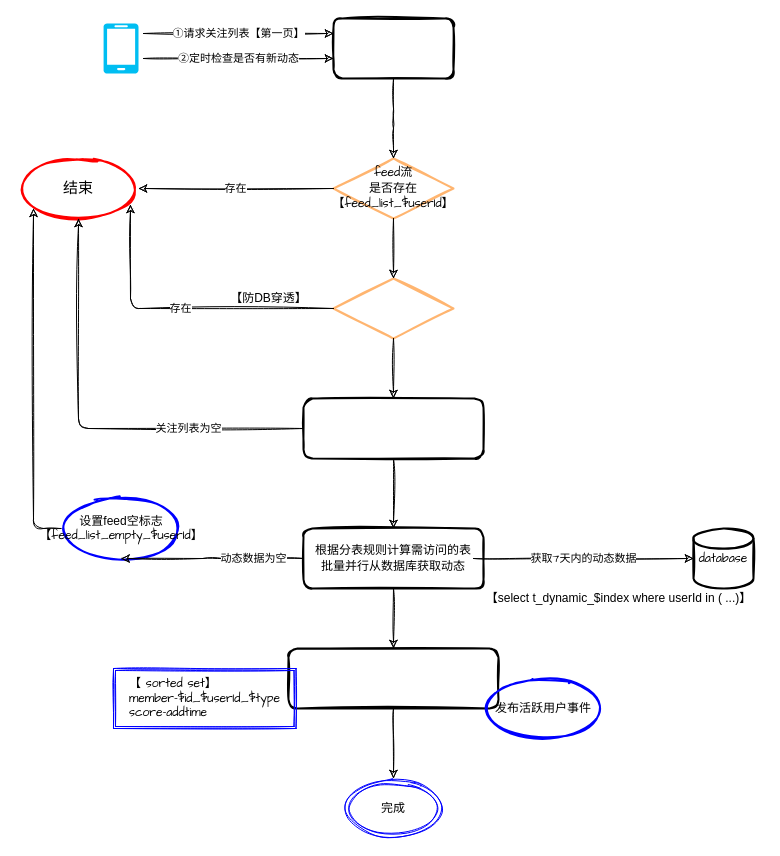
This 780x856 diagram has some shape labels left out. The centre of each missing label's shape, as x and y in pixels:
"feed流 预加载 【拉模式】" belongs at pixel 393 48.
"是否存在 feed 空标志 【feed_list_empty_$userId】" belongs at pixel 393 308.
"查询关注列表" belongs at pixel 393 428.
"设置动态列表到redis 【feed_list_${userId}】" belongs at pixel 393 678.
